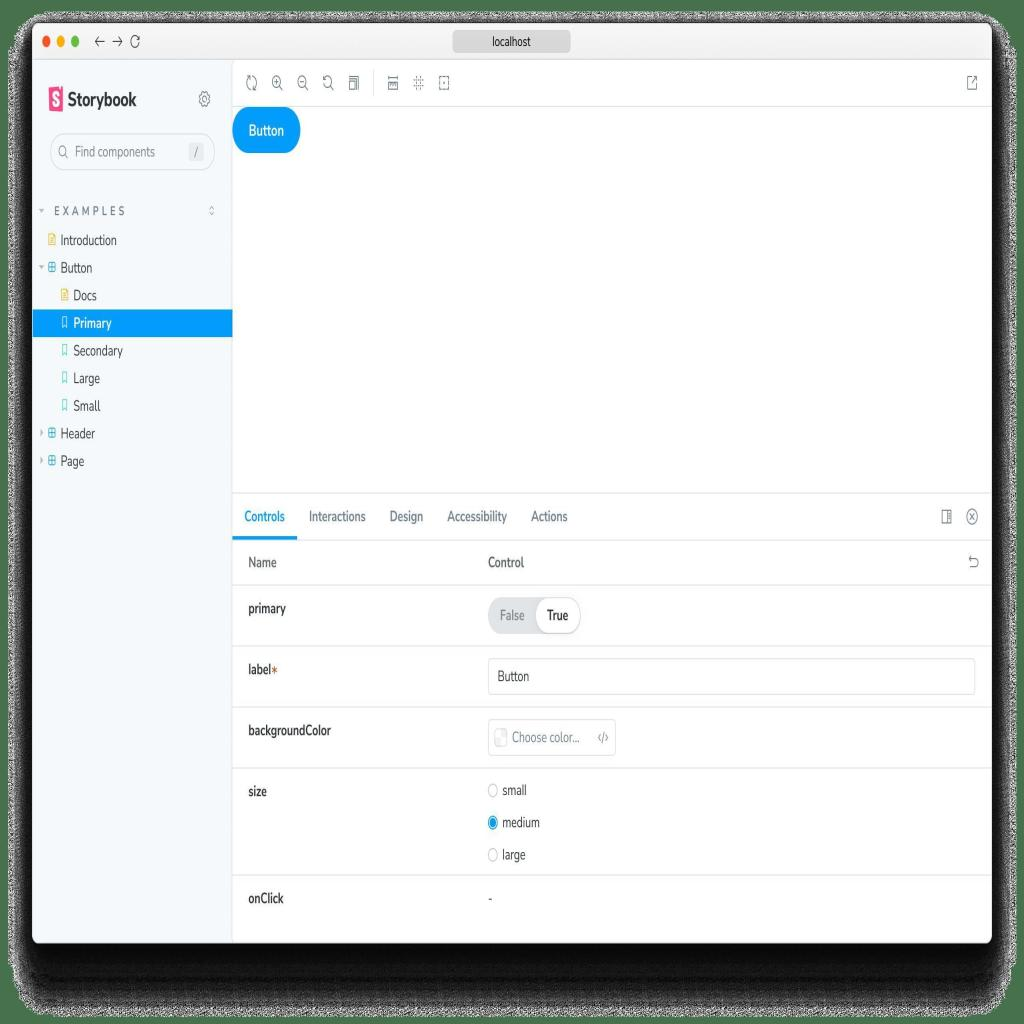button: (232, 108, 300, 154)
icon: (294, 72, 312, 96), (384, 73, 402, 96), (197, 87, 213, 111), (344, 72, 361, 94), (436, 71, 453, 93), (411, 73, 428, 94), (321, 71, 336, 94), (245, 70, 260, 92), (940, 505, 955, 527), (270, 70, 284, 92), (966, 70, 980, 92), (968, 551, 980, 575), (967, 505, 978, 528), (58, 143, 69, 162), (60, 286, 69, 304), (48, 232, 57, 248), (47, 453, 56, 468), (48, 260, 56, 276), (47, 426, 56, 440), (61, 314, 68, 331), (61, 370, 68, 386), (61, 398, 68, 414), (62, 342, 68, 358)
input: (50, 132, 214, 170), (487, 719, 615, 754)
radio: (488, 784, 498, 800), (488, 848, 498, 864), (488, 815, 498, 830)
switch: (490, 594, 582, 636)
